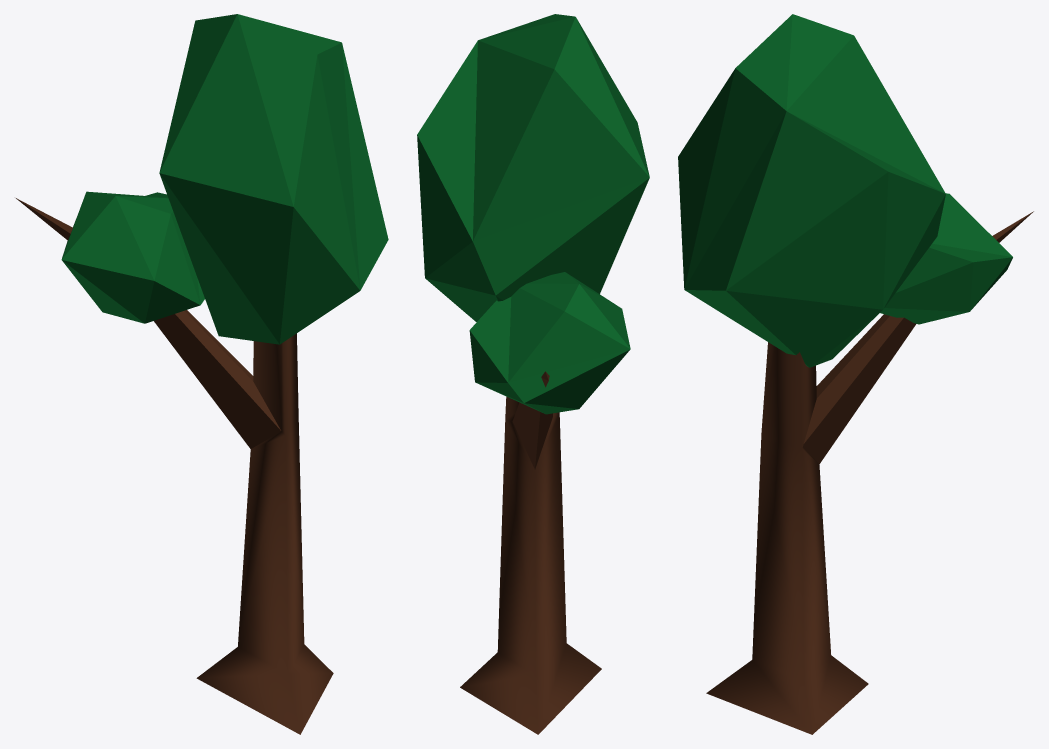
File: Tree1.FBX
3 views of the same model, side by side, from view 1: azimuth 30°, elevation 25°; view 2: azimuth 150°, elevation 25°; view 3: azimuth 270°, elevation 25° (orthographic). The views are drawn at different scales.
Visible parts, largest first — view 1: Sphere044; view 2: Sphere044; view 3: Sphere044.
Part boxes in pixels (x1,y1,x2,y2): Sphere044: (16, 14, 388, 734); Sphere044: (417, 14, 649, 734); Sphere044: (678, 14, 1033, 734).
Bounding box in the file's own units: 6.71 × 19.13 × 9.23.
